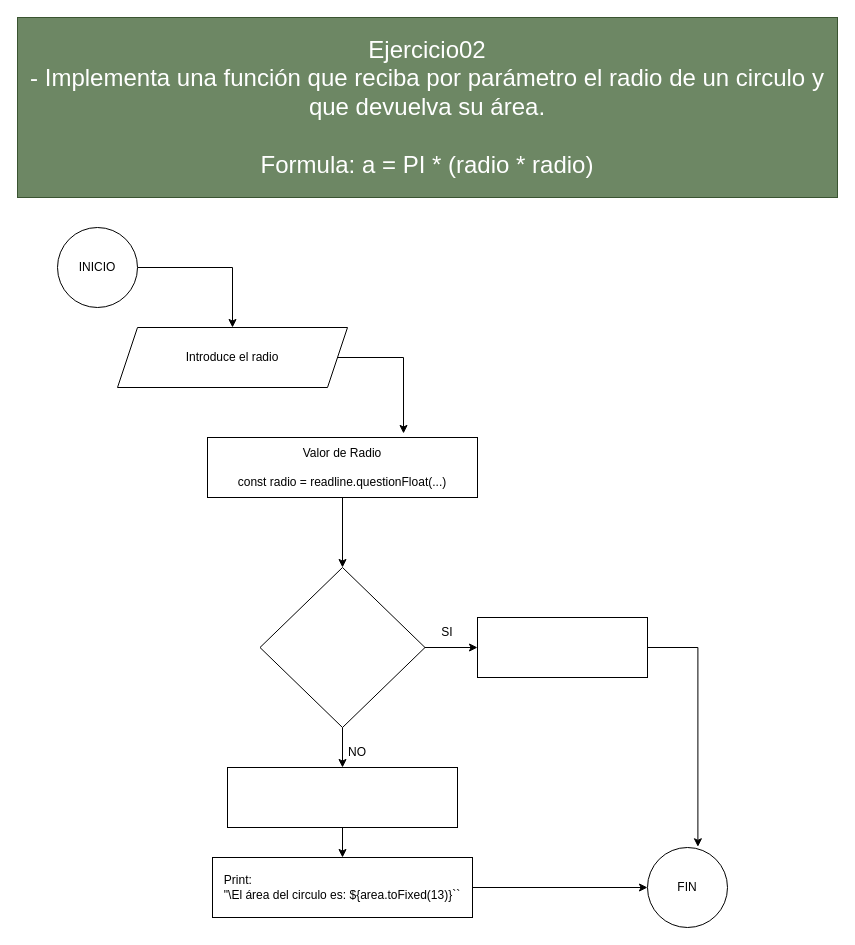
Image size: 855x945. Some labels were removed from this diagram. The centre of each missing label's shape, as x and y in pixels:
Calcular Área const area = Math.PI*Math.pow(radio, 2): pixel 342 797
Print: "El radio debe ser positivo": pixel 562 647
¿radio <=0?: pixel 342 647
